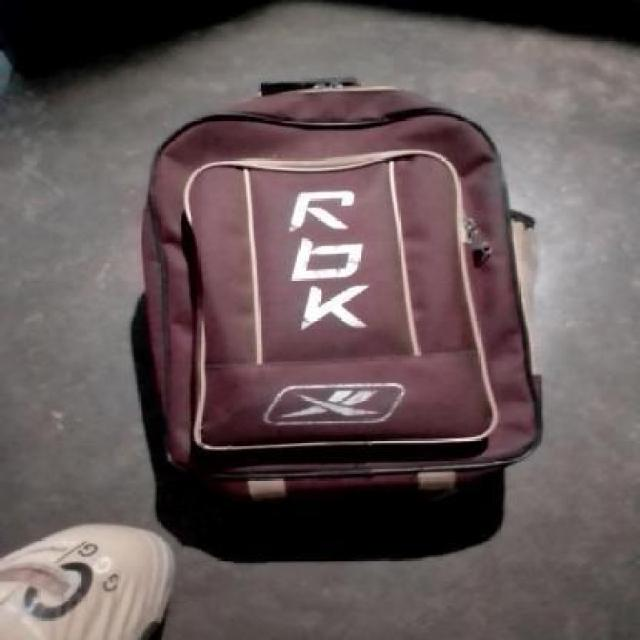backpack: (134, 74, 549, 518)
